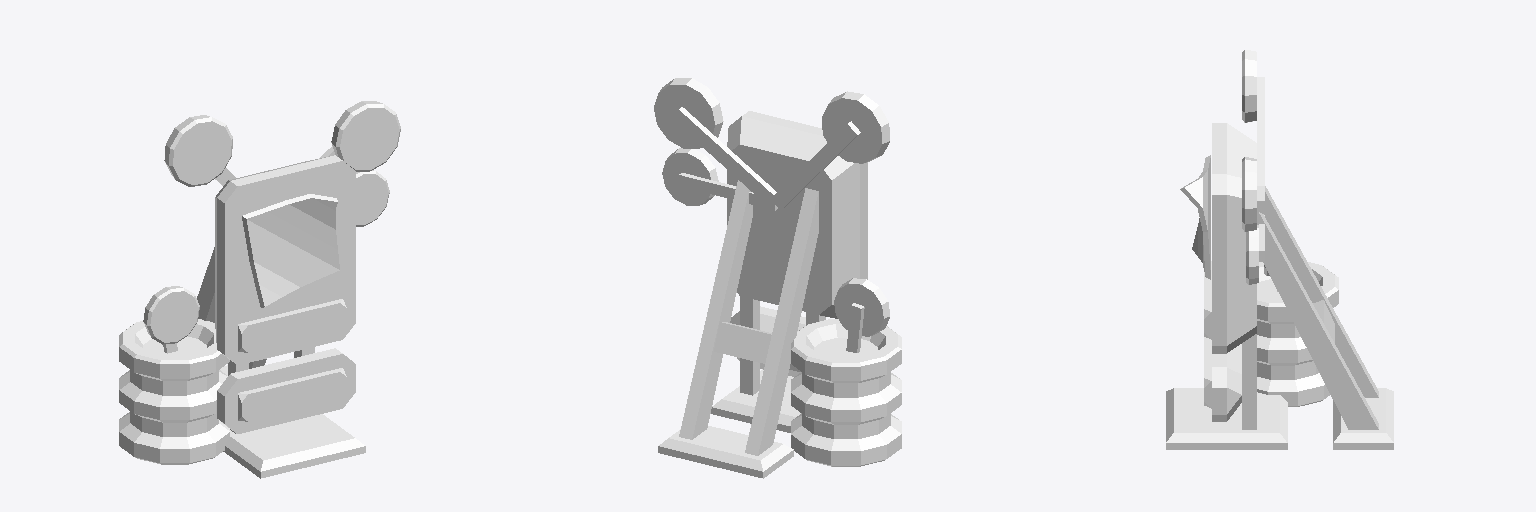
The model's file is target_stand_A_Decorated.obj.
The picture shows the model from 3 angles: view 1: azimuth 30°, elevation 25°; view 2: azimuth 150°, elevation 25°; view 3: azimuth 270°, elevation 25°; orthographic projection.
Visible parts, largest first — view 1: target_stand_A_Decorated_Cube.16115; view 2: target_stand_A_Decorated_Cube.16115; view 3: target_stand_A_Decorated_Cube.16115.
Boxes of the visible parts, x1,y1,x2,y2 form: target_stand_A_Decorated_Cube.16115: [119, 101, 400, 478]; target_stand_A_Decorated_Cube.16115: [654, 78, 901, 478]; target_stand_A_Decorated_Cube.16115: [1166, 50, 1393, 449].
Size of the model in its own units: 1.94 by 2.44 by 1.5.